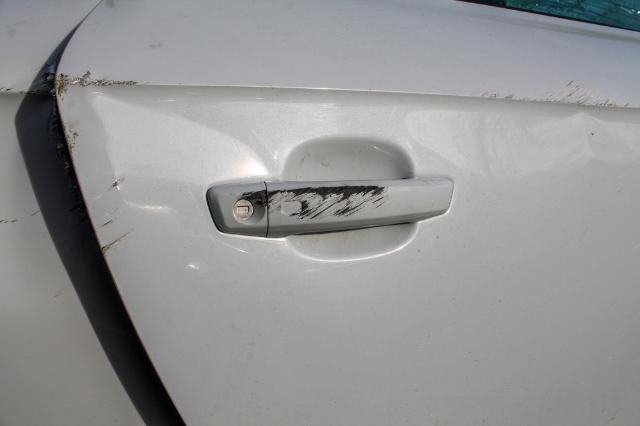scratch: (243, 182, 392, 219), (489, 76, 632, 110), (87, 172, 128, 257)
